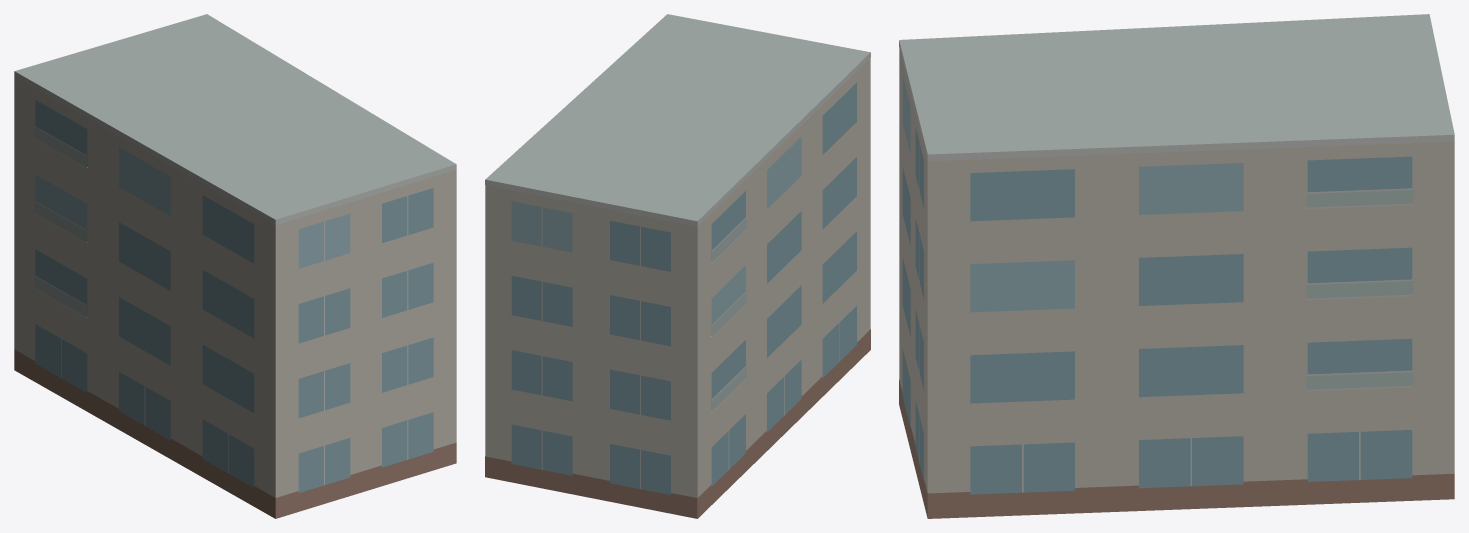
File: survey-upis-32965241.glb
3 renders of one model, left to right at view 1: azimuth 30°, elevation 25°; view 2: azimuth 150°, elevation 25°; view 3: azimuth 270°, elevation 25°, orthographic. The views are drawn at different scales.
Visible parts, largest first — view 1: survey-upis-32965241.tmp; view 2: survey-upis-32965241.tmp; view 3: survey-upis-32965241.tmp.
Part boxes in pixels (x1,y1,x2,y2): survey-upis-32965241.tmp: (14, 14, 456, 518); survey-upis-32965241.tmp: (485, 14, 870, 518); survey-upis-32965241.tmp: (899, 14, 1454, 518).
Bounding box in the file's own units: 10.92 × 13.2 × 18.25.
